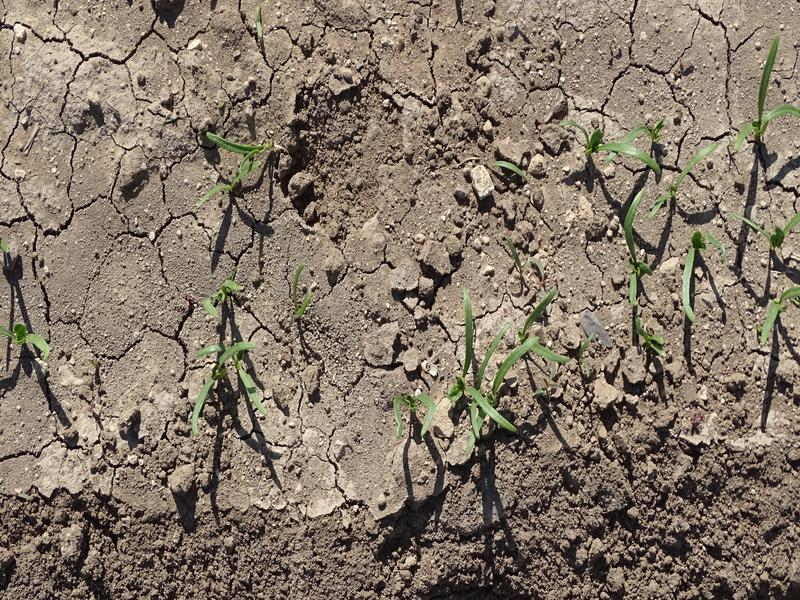Espinaca: (571, 101, 707, 315), (407, 277, 564, 440), (738, 45, 798, 346), (183, 285, 275, 422), (198, 132, 264, 203), (1, 323, 57, 358)
